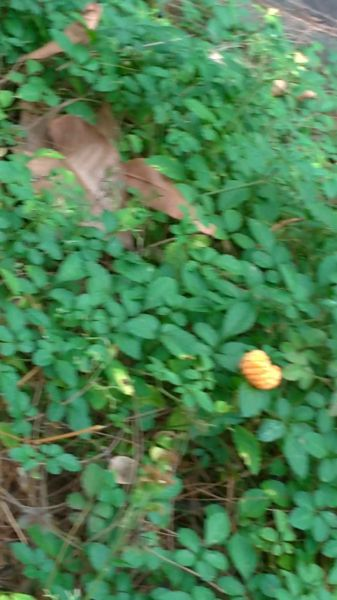eggs: (234, 344, 290, 394)
